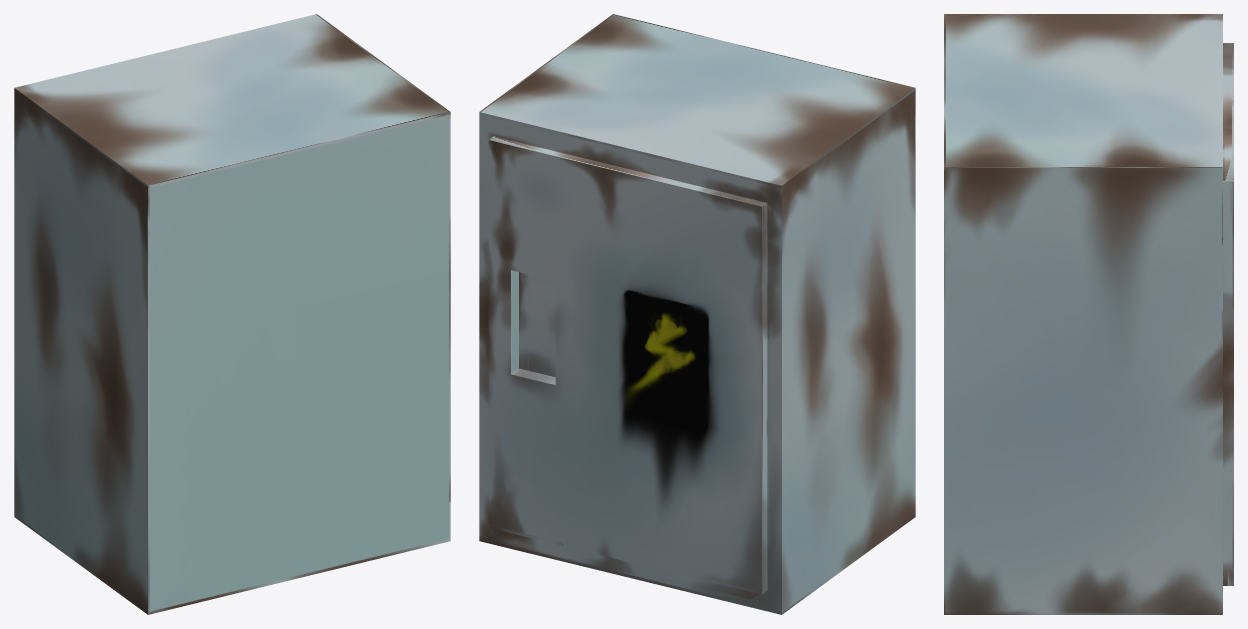
Rendered from DR_PowerBox.fbx.
3 views of the same model, side by side, from view 1: azimuth 30°, elevation 25°; view 2: azimuth 150°, elevation 25°; view 3: azimuth 270°, elevation 25° (orthographic). The views are drawn at different scales.
Visible parts, largest first — view 1: PowerBox; view 2: PowerBox; view 3: PowerBox.
Part boxes in pixels (bbox=[...]): PowerBox: bbox=[14, 14, 450, 614]; PowerBox: bbox=[479, 14, 915, 614]; PowerBox: bbox=[944, 14, 1233, 614].
Size of the model in its own units: 148 by 200 by 117.
